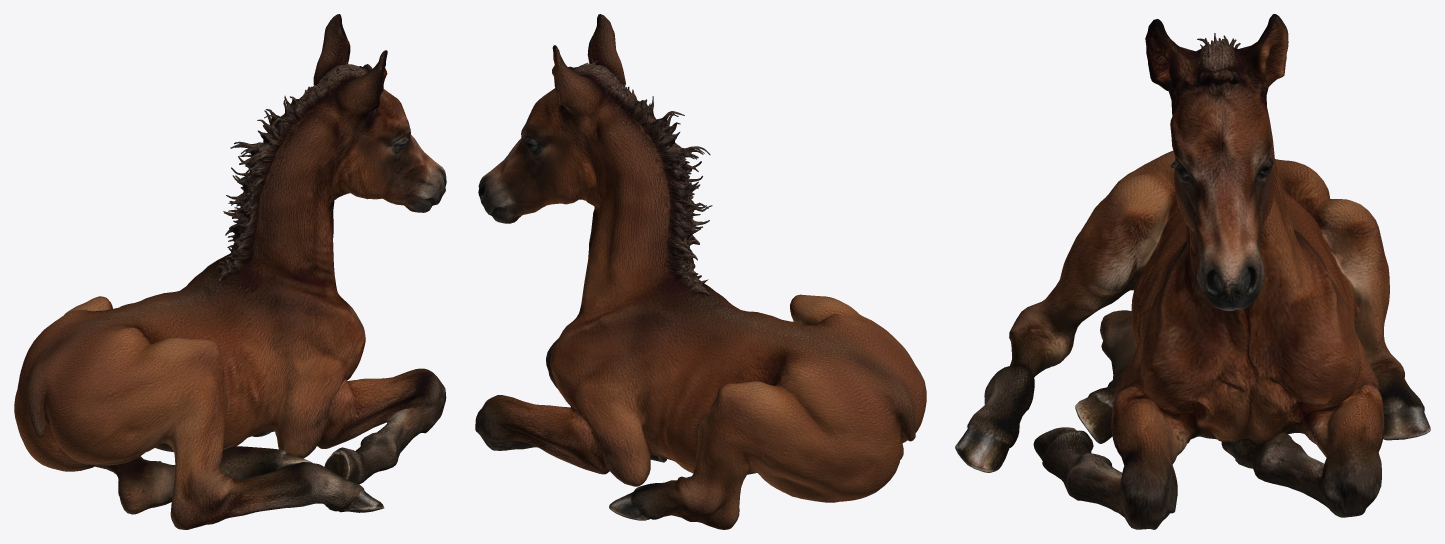
Rendered from foal-lying.glb.
3 renders of one model, left to right at view 1: azimuth 30°, elevation 25°; view 2: azimuth 150°, elevation 25°; view 3: azimuth 270°, elevation 25°, orthographic. The views are drawn at different scales.
Visible parts, largest first — view 1: tripo_node_bc5bf30b-0e49-43ac-a144-bd96411b8475; view 2: tripo_node_bc5bf30b-0e49-43ac-a144-bd96411b8475; view 3: tripo_node_bc5bf30b-0e49-43ac-a144-bd96411b8475.
Boxes of the visible parts, left/top/right/bottom form: tripo_node_bc5bf30b-0e49-43ac-a144-bd96411b8475: left=14, top=14, right=446, bottom=529; tripo_node_bc5bf30b-0e49-43ac-a144-bd96411b8475: left=475, top=14, right=926, bottom=529; tripo_node_bc5bf30b-0e49-43ac-a144-bd96411b8475: left=955, top=14, right=1430, bottom=529.
Bounding box in the file's own units: 0.9994 × 0.9066 × 0.7649.
Materials: 1 (1 with a texture image).
